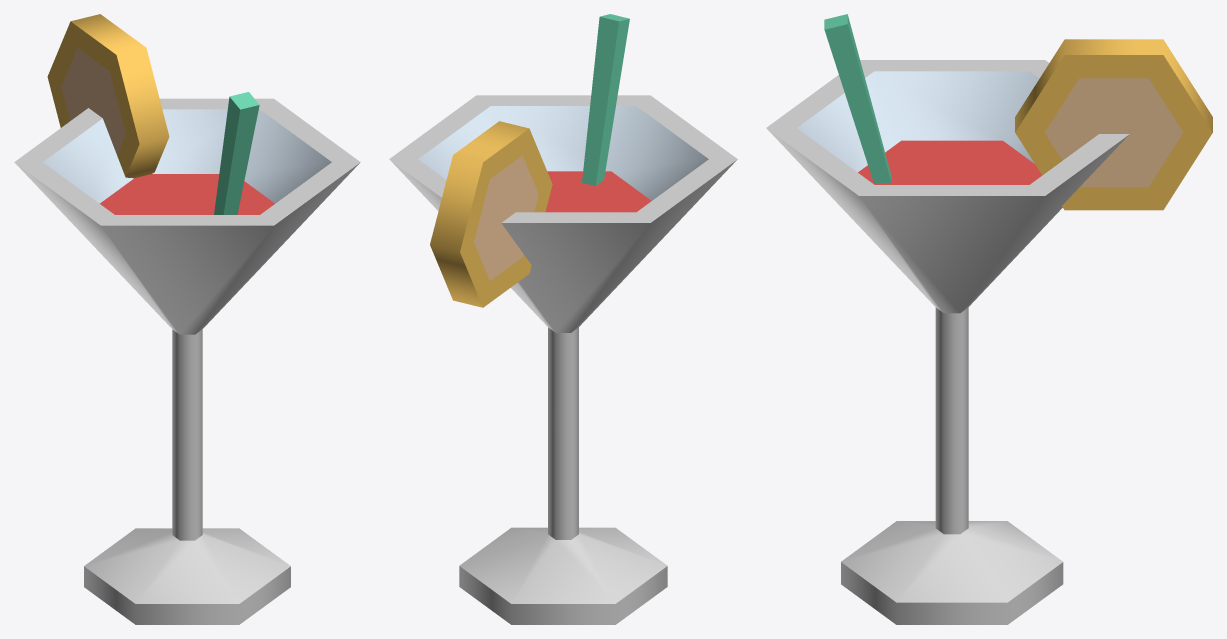
Rendered from cocktail.obj.
3 renders of one model, left to right at view 1: azimuth 30°, elevation 25°; view 2: azimuth 150°, elevation 25°; view 3: azimuth 270°, elevation 25°, orthographic. The views are drawn at different scales.
Parts seen in each view (by area): view 1: cocktail, lemon, straw; view 2: cocktail, lemon, straw; view 3: cocktail, lemon, straw.
Part boxes in pixels (x1,y1,x2,y2): cocktail: (14, 98, 360, 624); lemon: (47, 14, 169, 178); straw: (214, 92, 259, 214); cocktail: (389, 95, 737, 624); lemon: (430, 121, 552, 307); straw: (582, 14, 629, 185); cocktail: (766, 60, 1129, 624); lemon: (1015, 39, 1212, 210); straw: (824, 14, 891, 183).
Size of the model in its own units: 0.2607 by 0.5059 by 0.3615.
